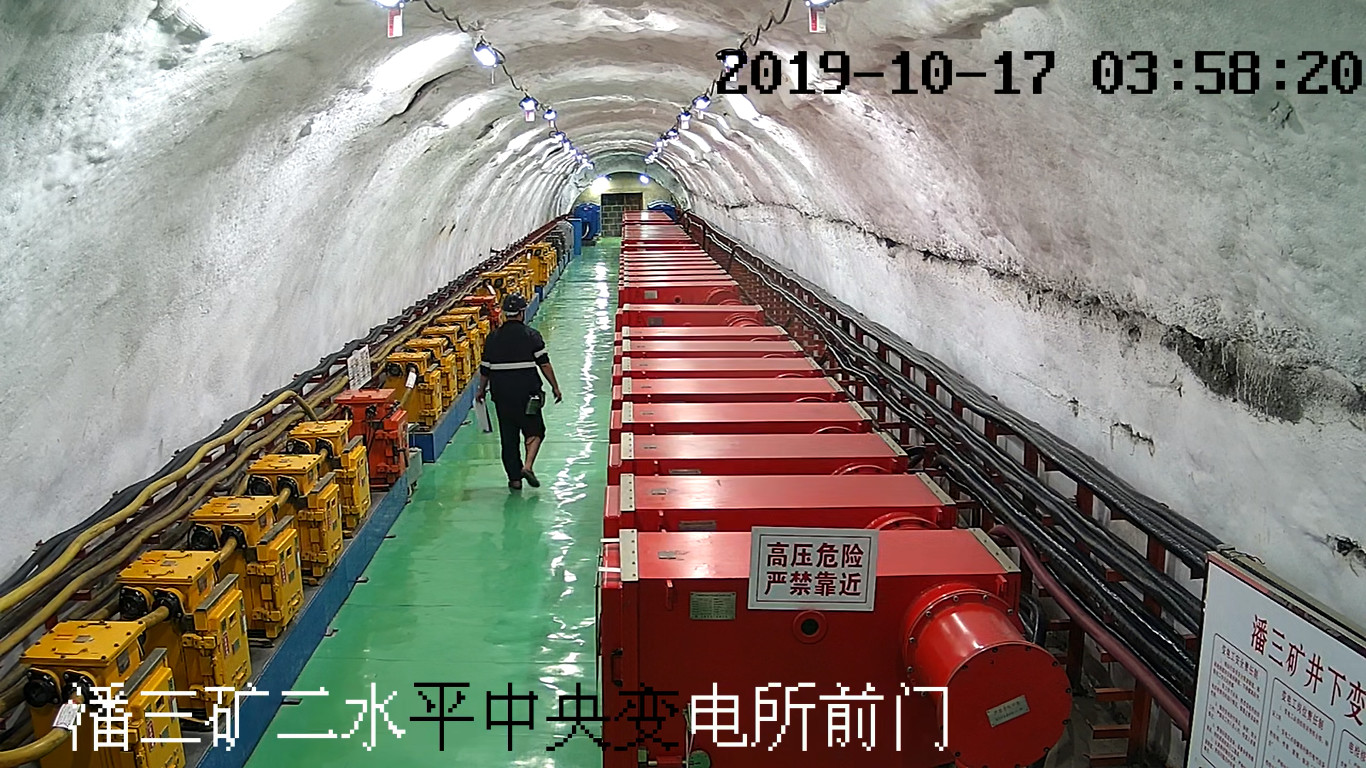helmet: (502, 291, 529, 312)
